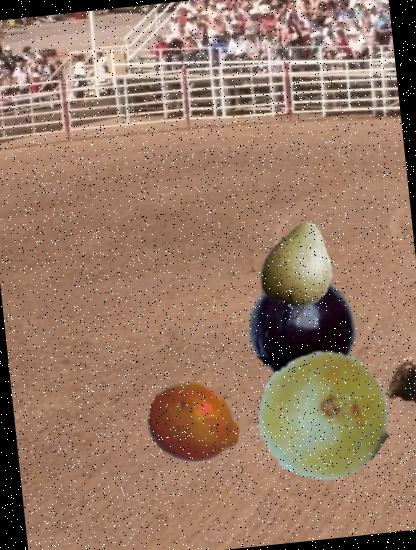Grape: (252, 344, 395, 487)
Pear: (251, 217, 347, 313)
Plum: (242, 268, 364, 390)
Tangelo: (143, 373, 245, 475)
